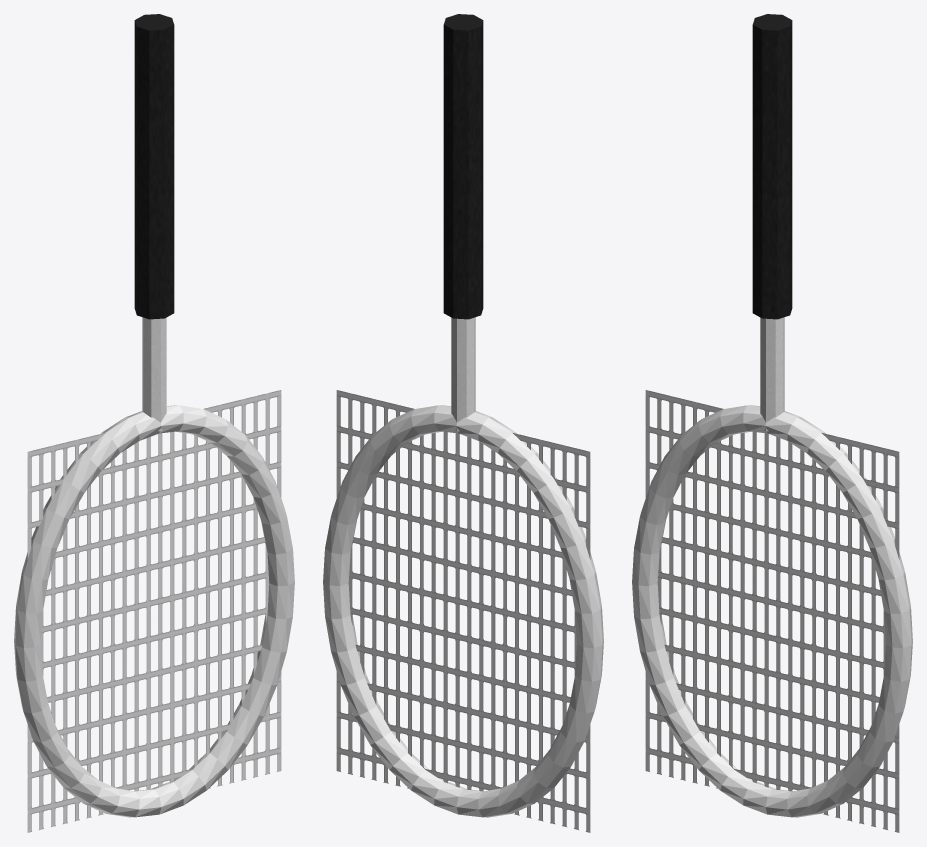
Rendered from JugB_Raqueta.obj.
3 renders of one model, left to right at view 1: azimuth 30°, elevation 25°; view 2: azimuth 150°, elevation 25°; view 3: azimuth 330°, elevation 25°, orthographic.
Size of the model in its own units: 0.252 by 0.686 by 0.032.
2 materials, 2 textured.
